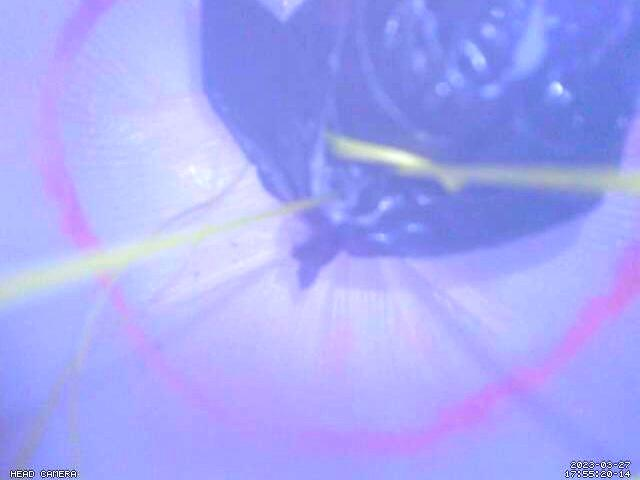head: (31, 0, 640, 457)
